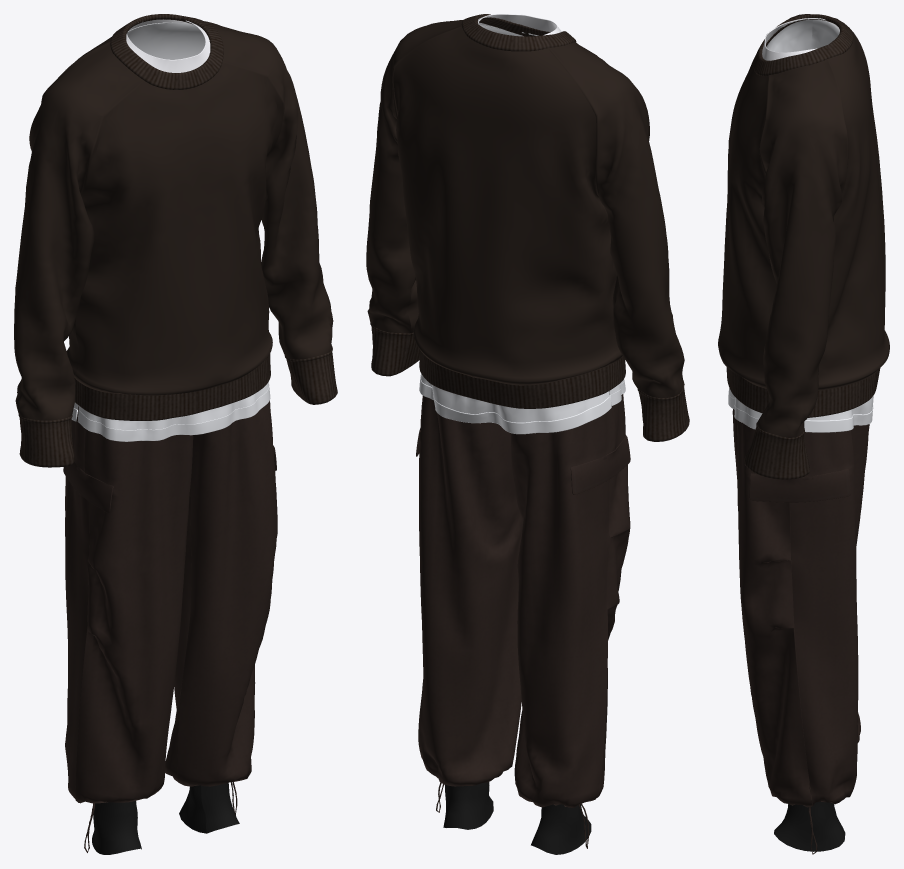
File: simple_black.glb
3 views of the same model, side by side, from view 1: azimuth 30°, elevation 25°; view 2: azimuth 150°, elevation 25°; view 3: azimuth 270°, elevation 25° (orthographic). The views are drawn at different scales.
Parts seen in each view (by area): view 1: Object_3, Object_2, Object_13, Object_15, Object_4, Object_16, Object_5, Object_9, Object_17, Object_7, Object_10; view 2: Object_4, Object_17, Object_16, Object_2, Object_3, Object_5, Object_13, Object_9, Object_7, Object_15, Object_10; view 3: Object_2, Object_17, Object_4, Object_15, Object_3, Object_5, Object_9, Object_7, Object_10.
Boxes of the visible parts, <box> form: Object_3: <box>74,63,282,420</box>; Object_2: <box>14,21,333,420</box>; Object_13: <box>75,429,193,803</box>; Object_15: <box>63,400,277,786</box>; Object_4: <box>18,14,337,467</box>; Object_16: <box>65,405,89,802</box>; Object_5: <box>92,782,239,854</box>; Object_9: <box>71,382,270,441</box>; Object_17: <box>84,489,237,852</box>; Object_7: <box>73,22,205,409</box>; Object_10: <box>126,19,210,72</box>; Object_4: <box>370,14,689,441</box>; Object_17: <box>418,395,588,848</box>; Object_16: <box>510,391,614,807</box>; Object_2: <box>366,19,684,397</box>; Object_3: <box>419,228,625,408</box>; Object_5: <box>443,782,591,854</box>; Object_13: <box>596,394,630,797</box>; Object_9: <box>419,24,625,434</box>; Object_7: <box>421,374,609,422</box>; Object_15: <box>416,428,630,754</box>; Object_10: <box>478,14,561,35</box>; Object_2: <box>757,14,848,437</box>; Object_17: <box>790,424,869,854</box>; Object_4: <box>744,14,889,479</box>; Object_15: <box>732,409,850,807</box>; Object_3: <box>718,55,880,417</box>; Object_5: <box>774,801,845,851</box>; Object_9: <box>728,19,873,432</box>; Object_7: <box>806,19,873,420</box>; Object_10: <box>762,18,833,60</box>.
Size of the model in its own units: 0.6095 by 1.53 by 0.3009.
3 materials, 3 textured.
